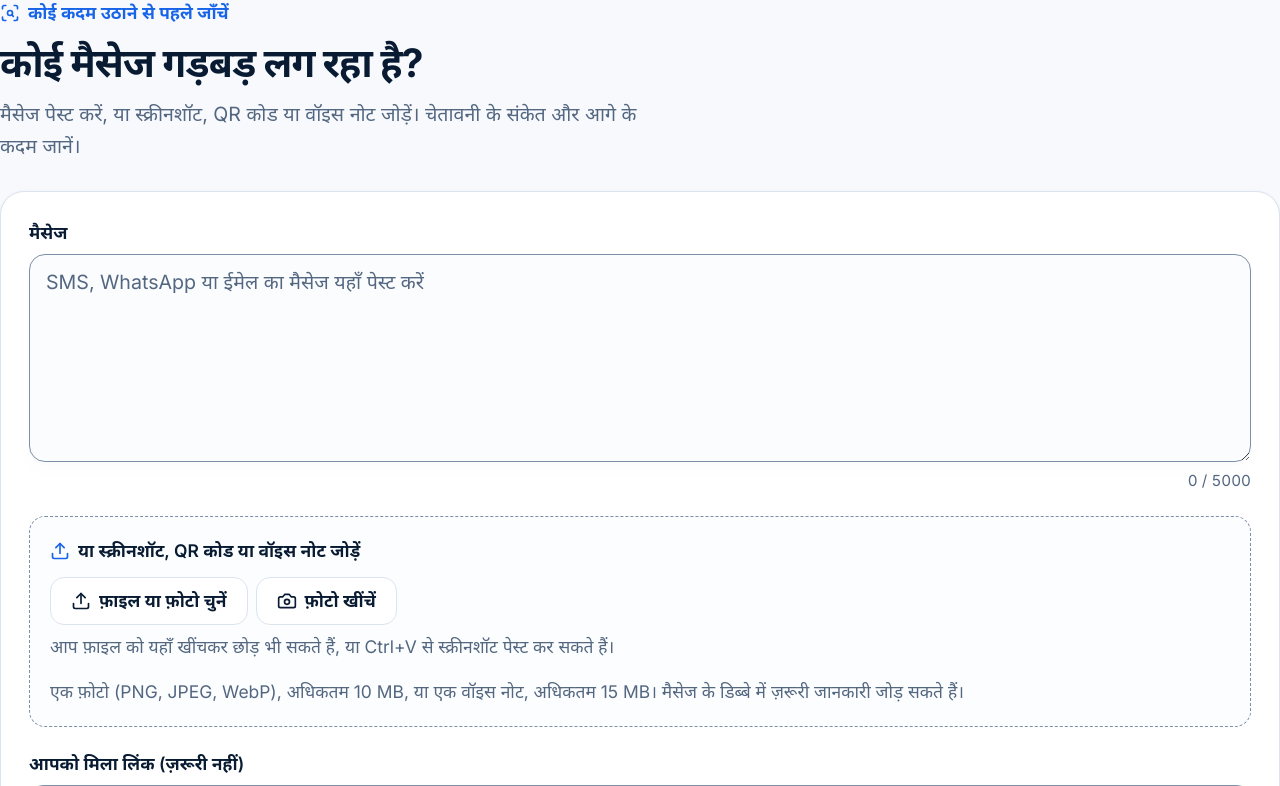
Test case: CheckPage › shows the thin-input hint in Hindi
Type "asdkjh qwe" into the text box labelled "मैसेज" at (640, 358), box left=29, top=254, right=1251, bottom=462
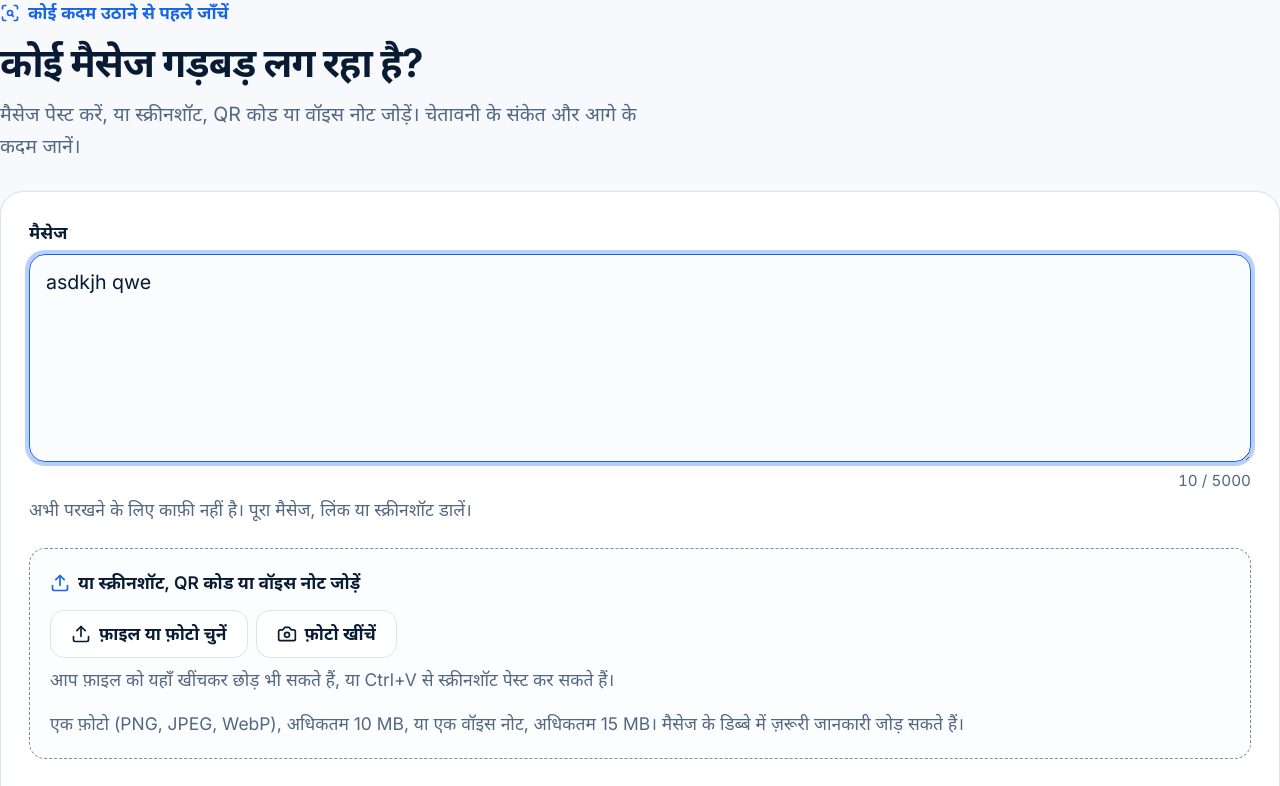
Result: the text "अभी परखने के लिए काफ़ी नहीं है। पूरा मैसेज, लिंक या स्क्रीनशॉट डालें।" is shown at left=29, top=499, right=472, bottom=520
